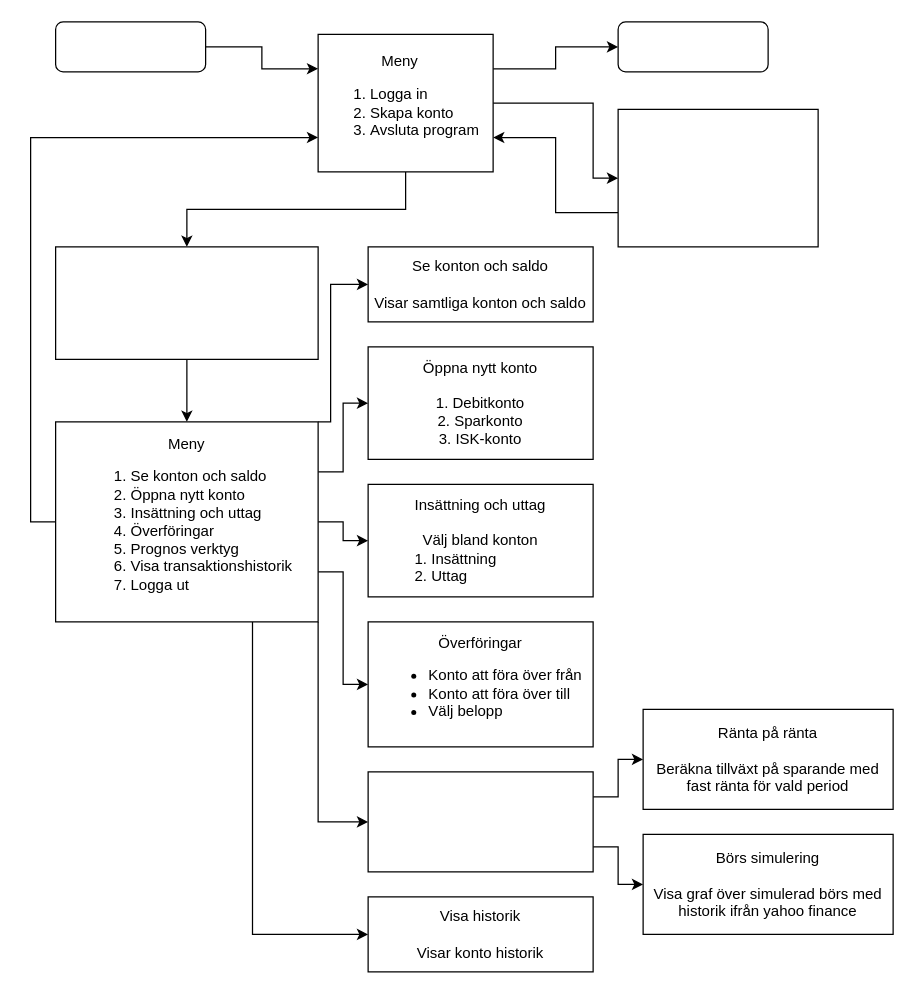
Image size: 915x994. Some labels were removed from this diagram. The shapes that lost their labels are listed below. From the top down, each one's centre as x and y in pixels, then its label:
At point (130, 46): "Start".
At point (692, 46): "Stop".
At point (717, 177): "Skapa konto Input användarnamn och lösenord Spara i fil".
At point (186, 302): "Inloggningsskärm Användarnamn Lösenord".
At point (480, 821): "Prognosverktyg Ränta på ränta Börs simulering".
